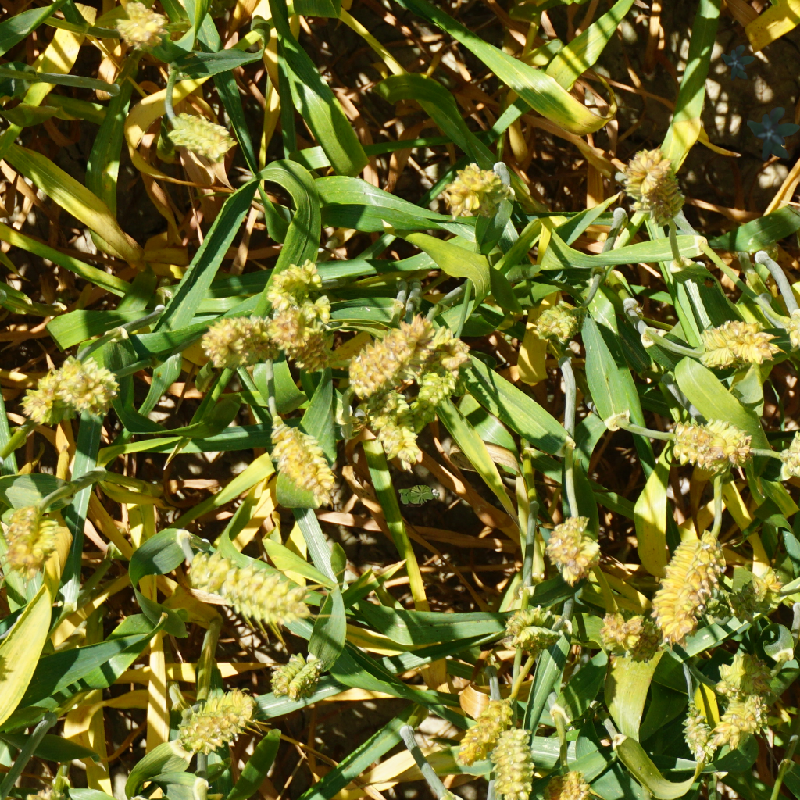spikelet: (186, 553, 314, 623), (655, 525, 730, 639), (349, 311, 435, 393), (264, 420, 345, 503), (607, 148, 683, 223), (697, 564, 782, 628), (175, 687, 253, 754), (266, 297, 335, 370), (692, 311, 779, 368), (194, 311, 273, 369), (664, 422, 751, 472), (549, 509, 604, 586), (482, 727, 539, 800), (3, 503, 59, 575), (101, 1, 182, 50), (438, 164, 507, 220), (369, 385, 422, 457), (595, 606, 664, 660), (455, 692, 507, 760), (62, 353, 117, 417), (167, 112, 243, 157), (717, 692, 771, 752), (503, 603, 569, 648), (273, 257, 335, 303), (269, 650, 323, 699), (535, 291, 583, 345), (409, 378, 456, 432), (675, 710, 721, 761), (717, 657, 768, 693), (25, 374, 64, 420), (768, 417, 800, 471), (550, 760, 592, 798), (431, 327, 468, 370), (785, 310, 800, 365)
weed: (747, 107, 800, 161), (721, 45, 755, 81), (398, 485, 440, 507)
